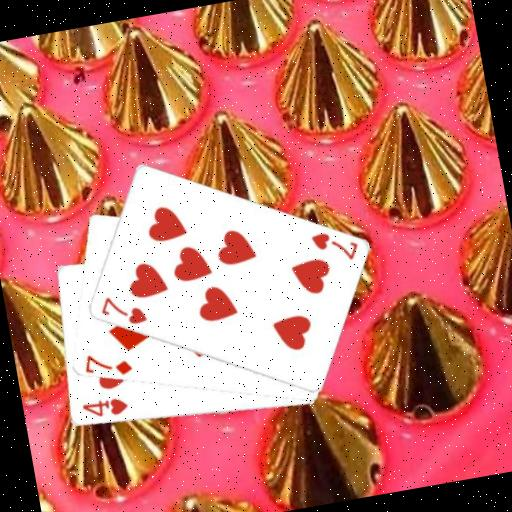4H: (78, 392, 130, 422)
7D: (79, 344, 135, 383)
7H: (306, 223, 362, 268), (94, 287, 149, 332)
